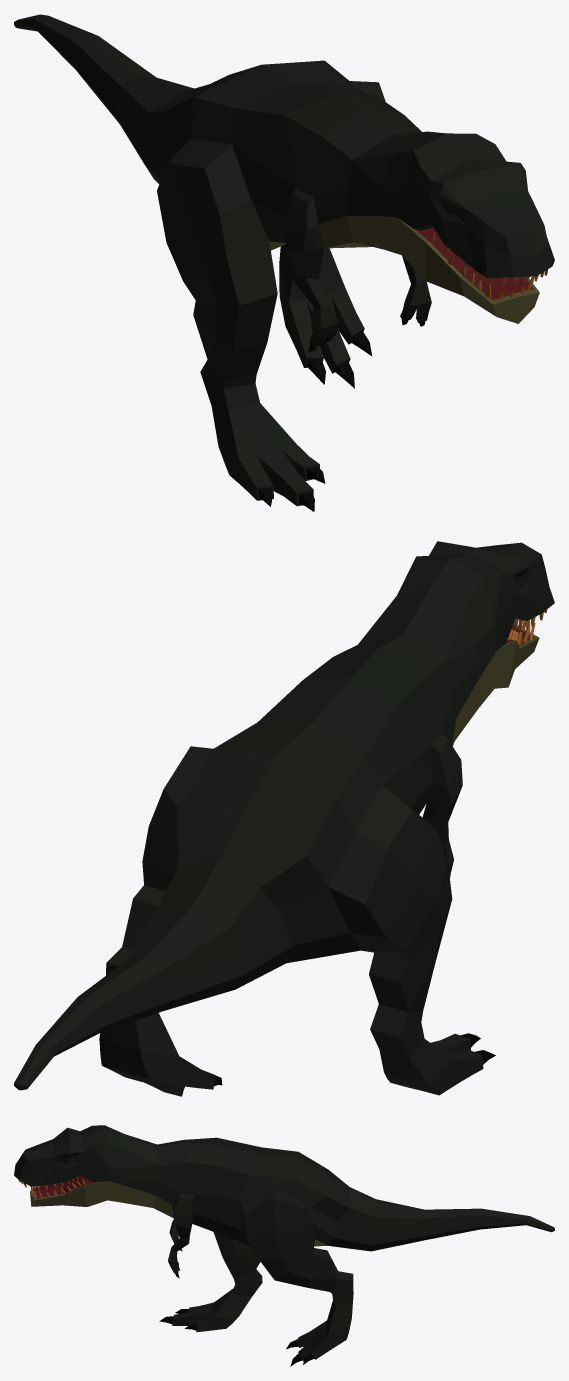
File: Trex_000020.obj
3 renders of one model, top to bottom at view 1: azimuth 30°, elevation 25°; view 2: azimuth 150°, elevation 25°; view 3: azimuth 270°, elevation 25°, orthographic. The views are drawn at different scales.
Parts seen in each view (by area): view 1: Trex_Cylinder; view 2: Trex_Cylinder; view 3: Trex_Cylinder.
Boxes of the visible parts, bbox=[...] form: Trex_Cylinder: bbox=[14, 14, 554, 511]; Trex_Cylinder: bbox=[14, 541, 554, 1096]; Trex_Cylinder: bbox=[14, 1125, 554, 1366].
Size of the model in its own units: 8.09 by 13.78 by 31.15.
